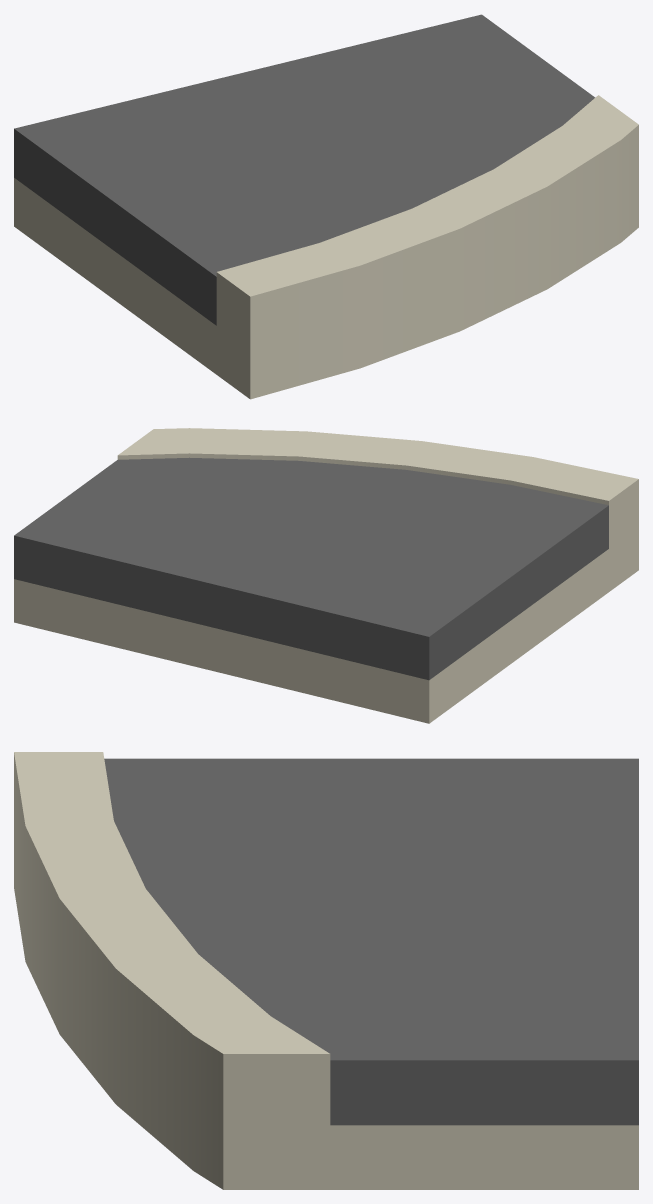
Rendered from roadTile_116.fbx.
3 renders of one model, top to bottom at view 1: azimuth 30°, elevation 25°; view 2: azimuth 150°, elevation 25°; view 3: azimuth 270°, elevation 25°, orthographic. The views are drawn at different scales.
Parts seen in each view (by area): view 1: roadTile_116; view 2: roadTile_116; view 3: roadTile_116.
Part boxes in pixels (<box>): roadTile_116: <box>14,14,638,399</box>; roadTile_116: <box>14,428,638,723</box>; roadTile_116: <box>14,752,638,1189</box>.
Size of the model in its own units: 118 by 24.8 by 103.
